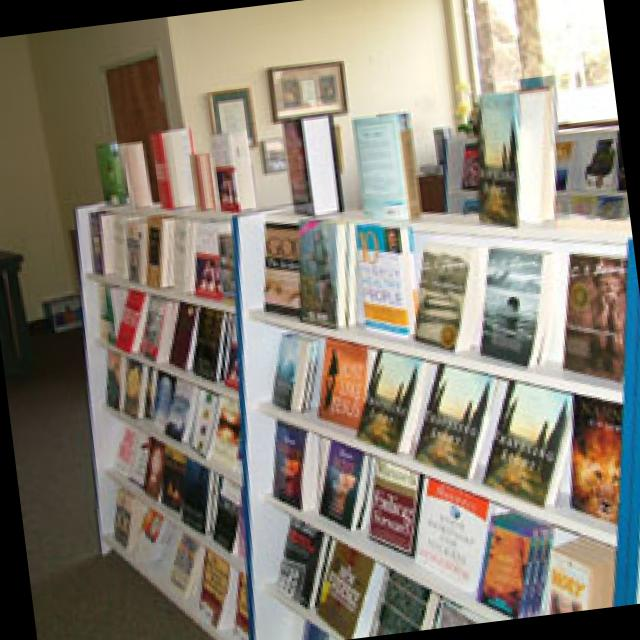2001: (469, 0, 613, 127)
book case: (478, 378, 571, 503), (474, 85, 555, 226), (410, 363, 496, 476), (477, 241, 548, 363), (351, 346, 428, 450), (348, 108, 416, 219), (410, 237, 477, 347), (356, 219, 416, 334), (570, 390, 620, 521), (280, 115, 339, 213), (364, 455, 417, 556), (311, 340, 364, 423), (267, 329, 320, 407), (271, 421, 317, 509), (146, 125, 194, 205), (206, 128, 253, 209), (97, 136, 147, 205), (259, 217, 296, 310), (132, 294, 176, 361), (178, 455, 210, 531), (190, 305, 223, 378), (141, 213, 171, 289), (190, 220, 219, 297), (109, 286, 143, 348), (119, 357, 144, 418)
bookcase crop: (74, 192, 640, 640)
books crop: (295, 213, 353, 326)
door opening: (103, 53, 171, 196)
floor -X: (0, 304, 640, 640)
picture crop: (266, 58, 345, 119)
table lamp: (0, 248, 33, 367)
wall clock: (162, 0, 490, 206), (25, 17, 189, 344), (467, 0, 624, 215), (0, 34, 61, 321)
